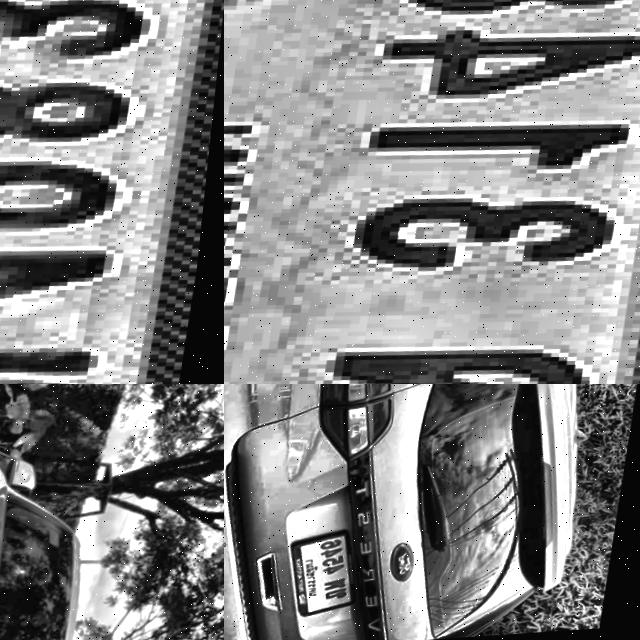license-plate: (224, 0, 640, 384), (0, 0, 224, 384), (292, 529, 384, 626)
